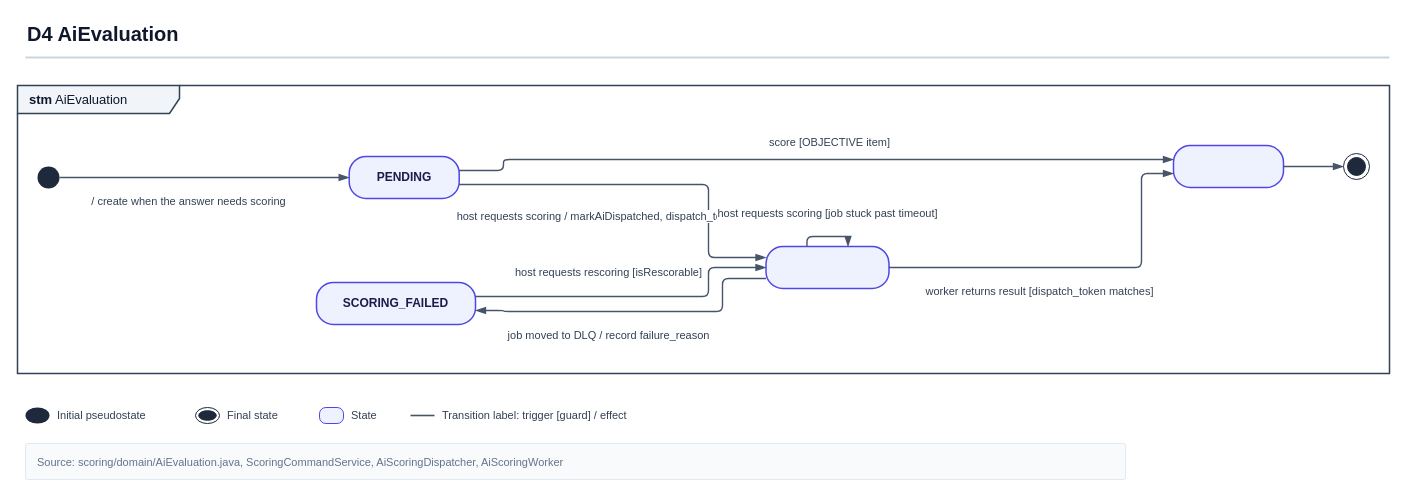
The diagram is 1408 pixels wide and 497 high, and some of its shapes have lost their labels. The shapes that lost their labels are listed below. From the top down, each one's centre as x and y in pixels, then its label:
At point (1228, 166): "SCORED".
At point (827, 267): "AI_SCORING".
